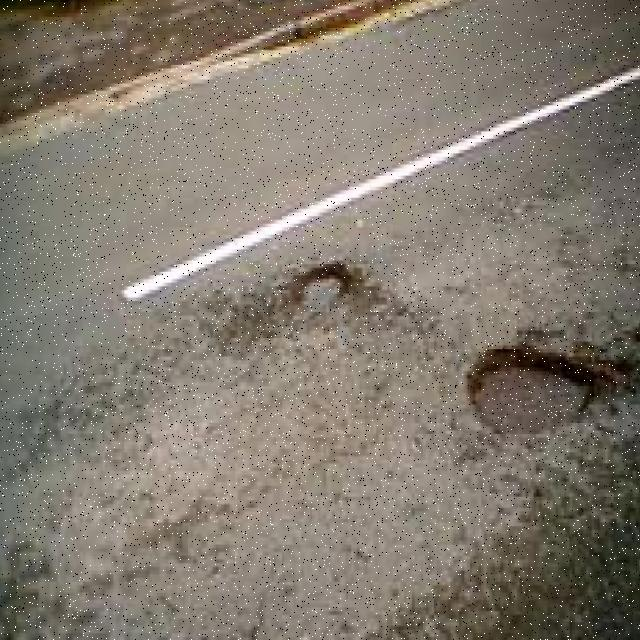pothole: (470, 345, 640, 438), (290, 264, 351, 316)
